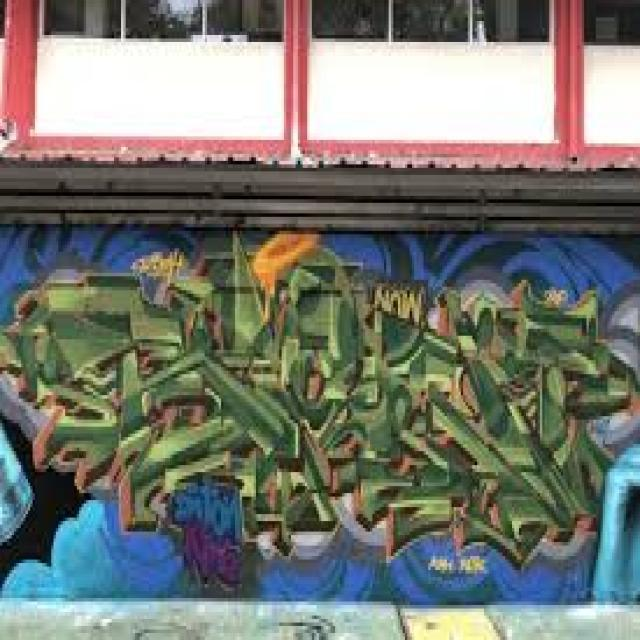-: (11, 230, 634, 582)
